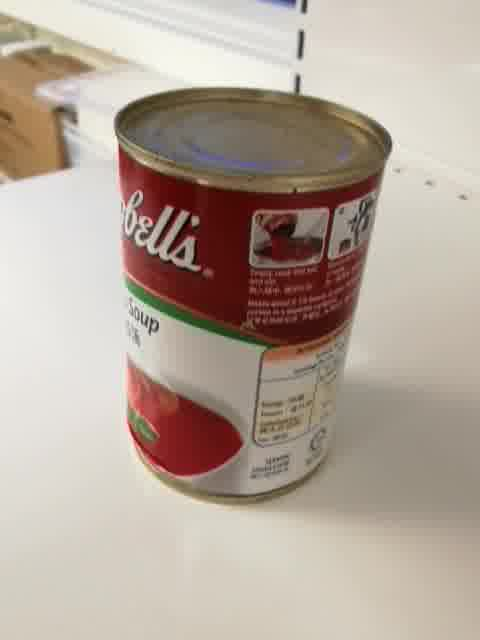tomatosoup: (113, 84, 394, 506)
